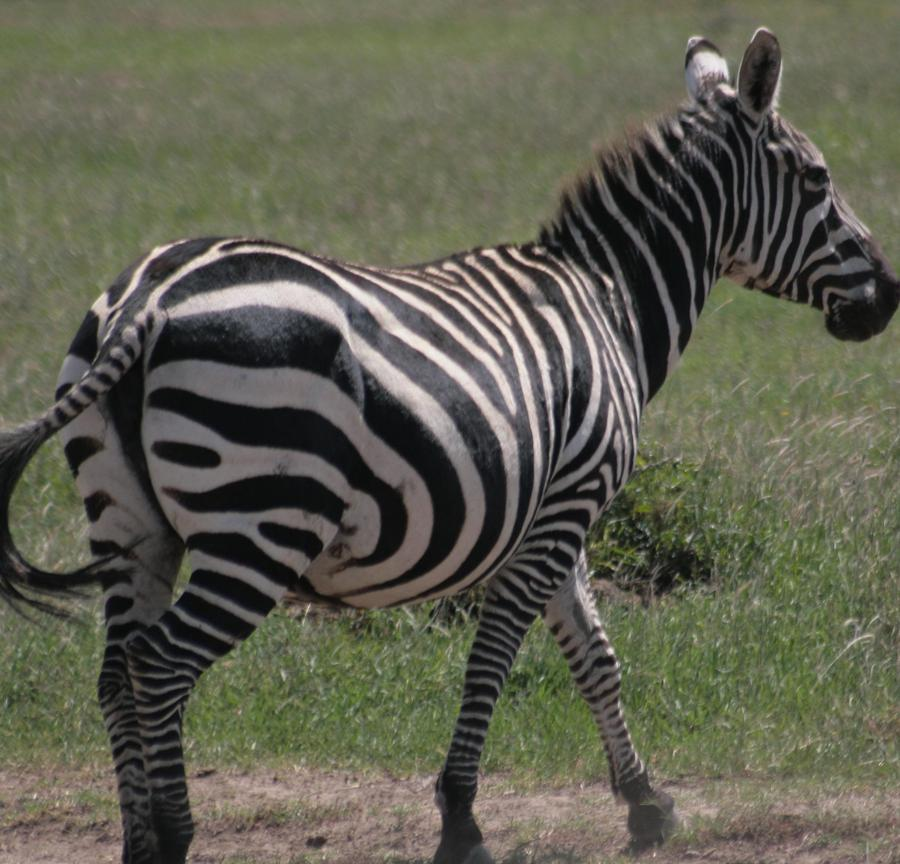zebra_plains: (172, 228, 633, 630)
